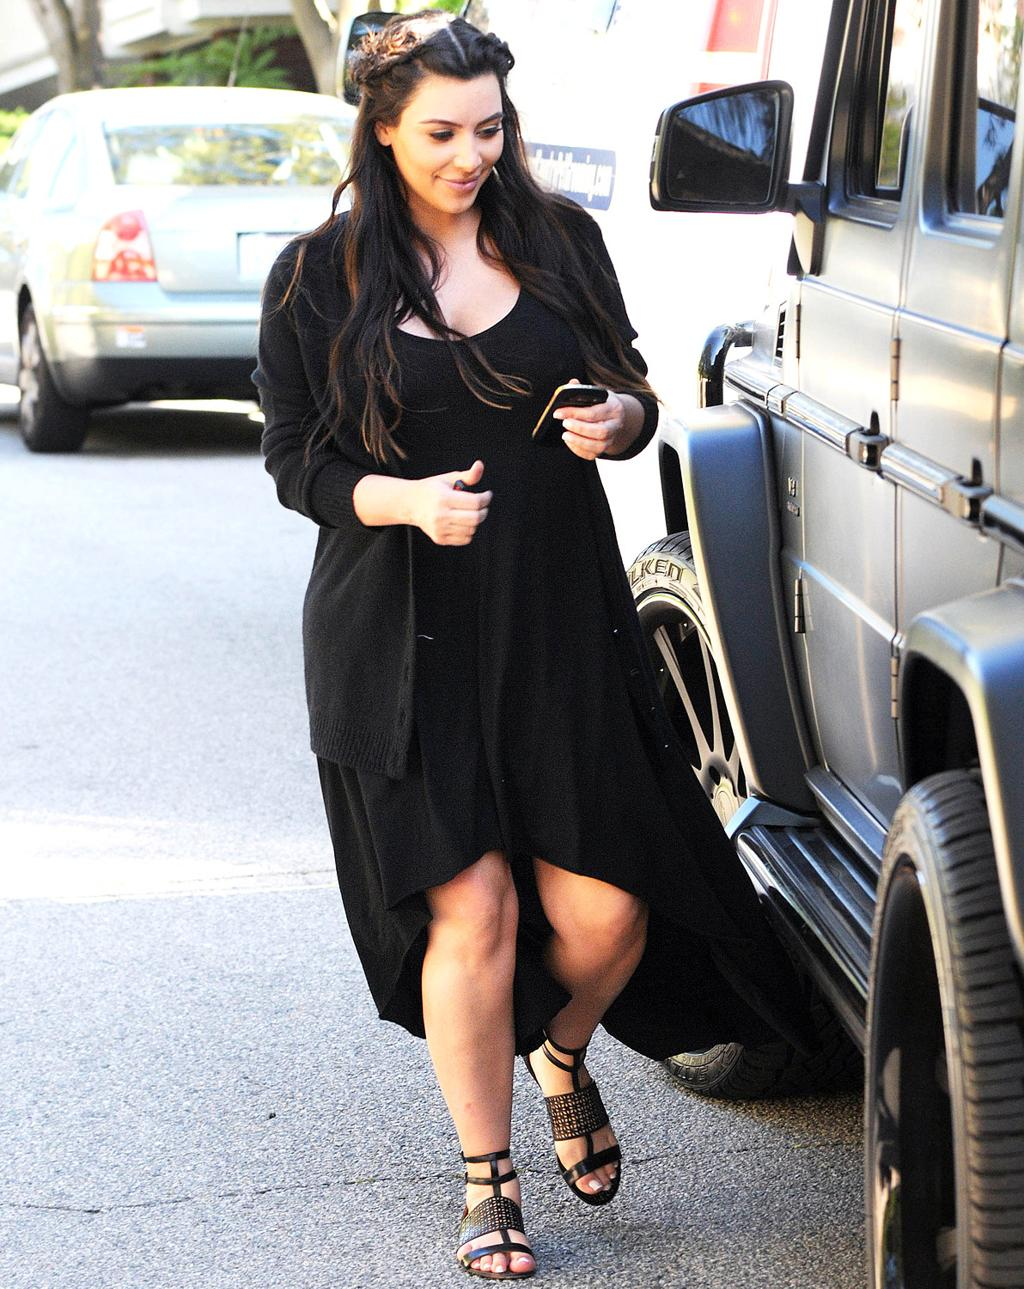face: (395, 73, 506, 214)
